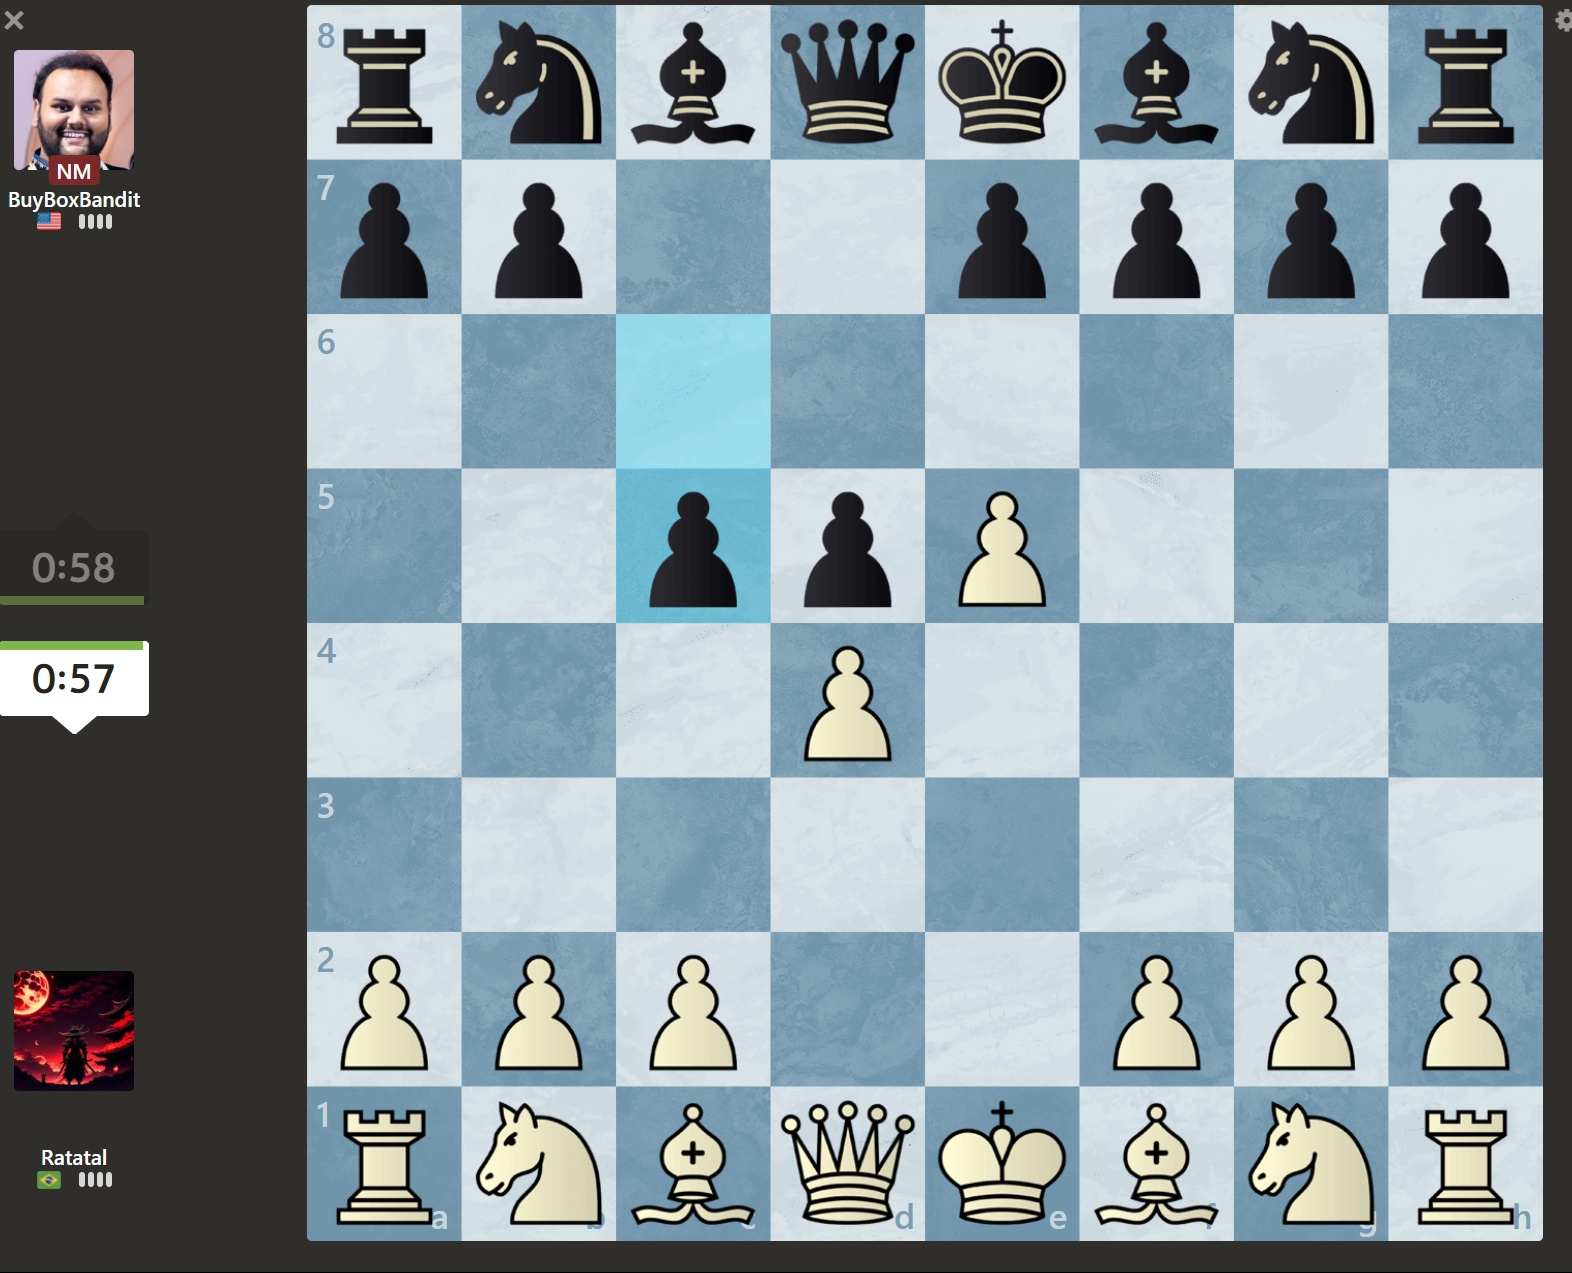beyaz_at: (1242, 1091, 1384, 1237), (465, 1091, 611, 1231)
beyaz_fil: (1087, 1091, 1226, 1235), (625, 1091, 760, 1237)
beyaz_kale: (317, 1092, 456, 1235), (1397, 1092, 1538, 1231)
beyaz_piyon: (937, 478, 1076, 620), (314, 937, 452, 1076), (468, 939, 607, 1073), (1089, 940, 1223, 1079), (1401, 943, 1534, 1076), (783, 633, 912, 770), (624, 940, 755, 1073), (1247, 939, 1365, 1076)
beyaz_sah: (930, 1094, 1071, 1231)
beyaz_vezir: (776, 1091, 932, 1239)
siyah_at: (468, 13, 611, 153), (1245, 9, 1378, 153)
siyah_fil: (1085, 10, 1232, 149), (624, 13, 763, 153)
siyah_kale: (1397, 13, 1538, 149), (317, 10, 450, 149)
siyah_piyon: (1084, 168, 1226, 310), (625, 478, 768, 618), (470, 166, 605, 312), (780, 472, 915, 611), (1249, 171, 1378, 305), (322, 171, 450, 307), (941, 169, 1067, 305), (1402, 171, 1523, 305)
siyah_sah: (935, 10, 1072, 153)
siyah_vezir: (769, 10, 916, 148)
